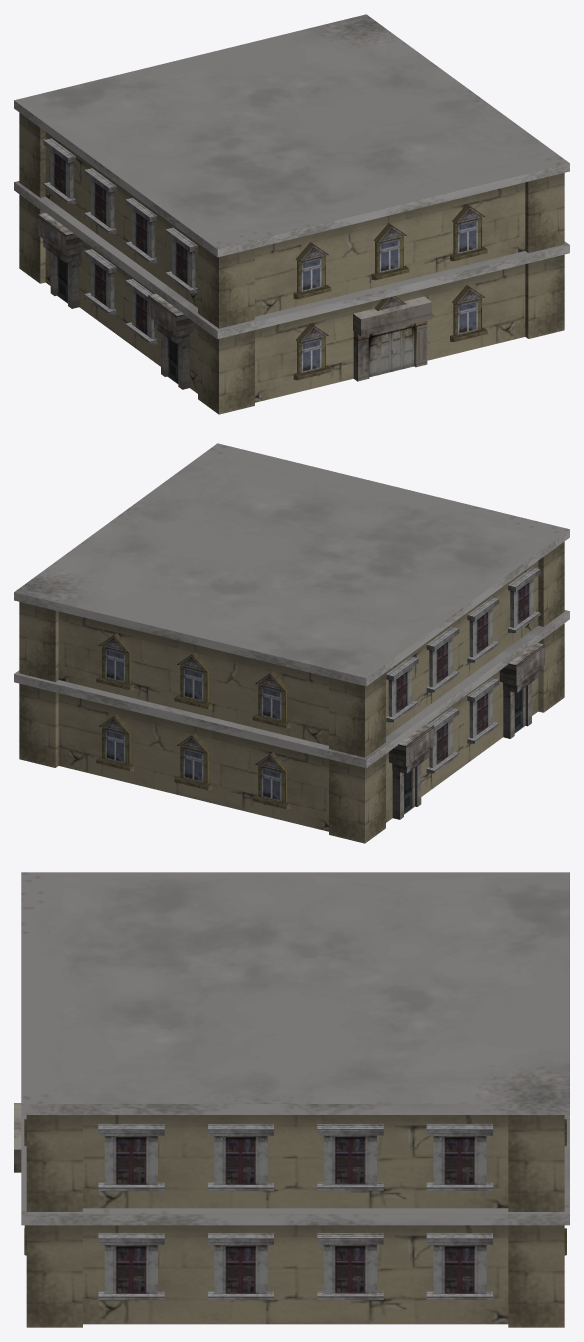
The model's file is Building03_4.FBX.
3 views of the same model, one above another, from view 1: azimuth 30°, elevation 25°; view 2: azimuth 150°, elevation 25°; view 3: azimuth 270°, elevation 25° (orthographic). The views are drawn at different scales.
Parts seen in each view (by area): view 1: Building4; view 2: Building4; view 3: Building4.
Boxes of the visible parts, box(x1,y1,x2,y2) form: Building4: box(14, 14, 569, 414); Building4: box(14, 443, 569, 843); Building4: box(14, 872, 569, 1327).
Bounding box in the file's own units: 9.22 × 4.1 × 9.14.
